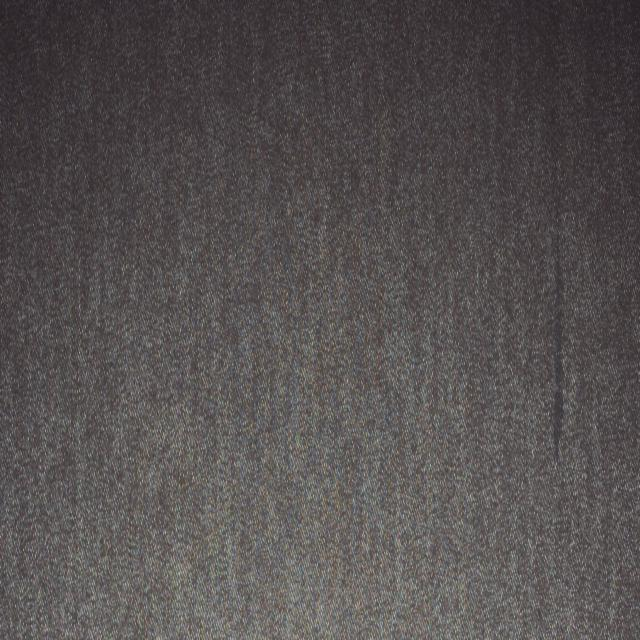Stain: (548, 97, 569, 464)
